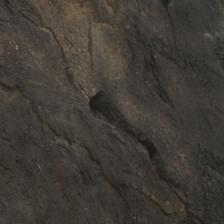Crack: (4, 84, 129, 204), (87, 88, 172, 187), (11, 3, 80, 95), (165, 178, 203, 224)
